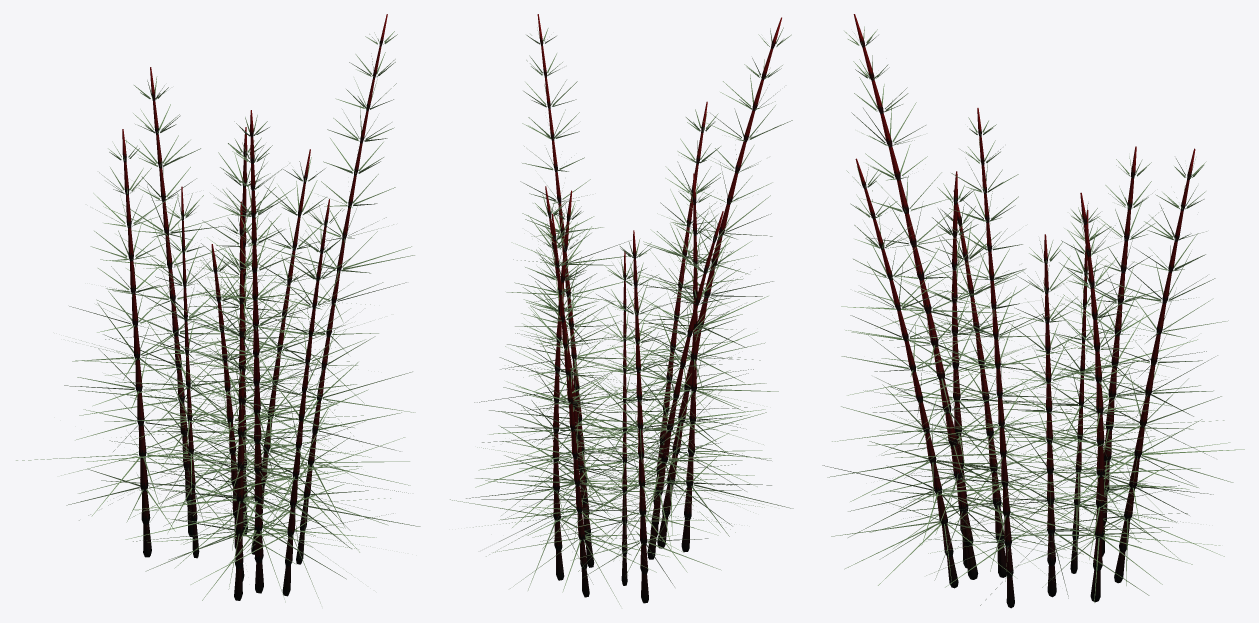
File: horsetail_v03_LOD1.glb
3 renders of one model, left to right at view 1: azimuth 30°, elevation 25°; view 2: azimuth 150°, elevation 25°; view 3: azimuth 270°, elevation 25°, orthographic. The views are drawn at different scales.
Parts seen in each view (by area): view 1: horsetail_v03_LOD1; view 2: horsetail_v03_LOD1; view 3: horsetail_v03_LOD1.
Boxes of the visible parts, <box> form: horsetail_v03_LOD1: <box>16,14,420,603</box>; horsetail_v03_LOD1: <box>450,14,793,605</box>; horsetail_v03_LOD1: <box>822,14,1244,608</box>.
Bounding box in the file's own units: 0.4365 × 0.7489 × 0.5379.
2 materials, 2 textured.
